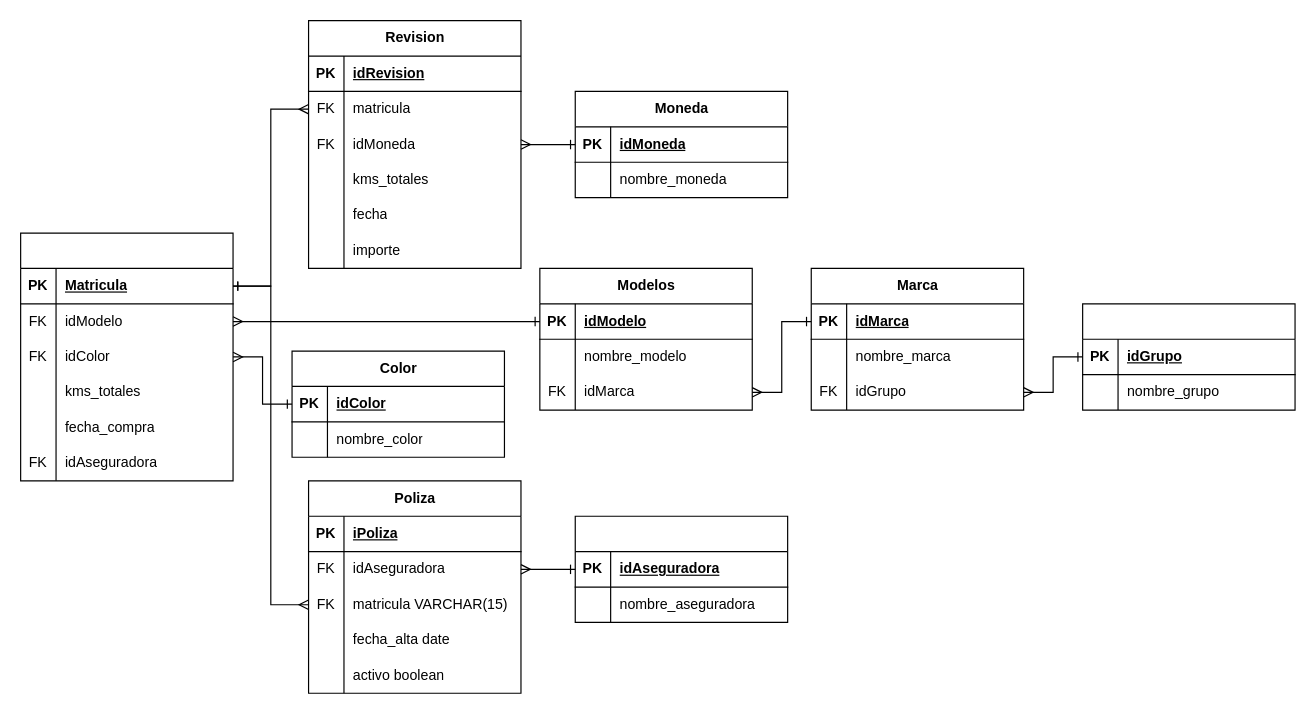
This 1316x714 diagram has some shape labels left out. The shapes that lost their labels are listed below. From the top down, each one's box as (x1, y1, x2, y2) in pixels, then its label:
(19, 232, 233, 481): Vehículo
(1081, 303, 1295, 410): Grupo Empresarial
(574, 515, 788, 622): Aseguradoras
